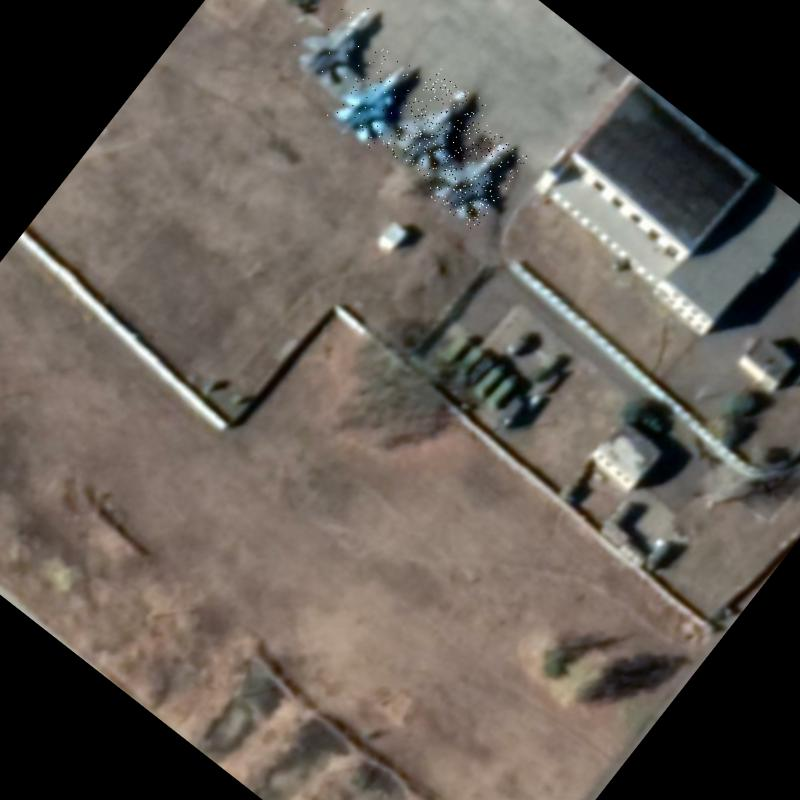A19: (379, 67, 490, 184), (421, 118, 530, 232), (324, 42, 430, 152), (283, 0, 396, 99)
